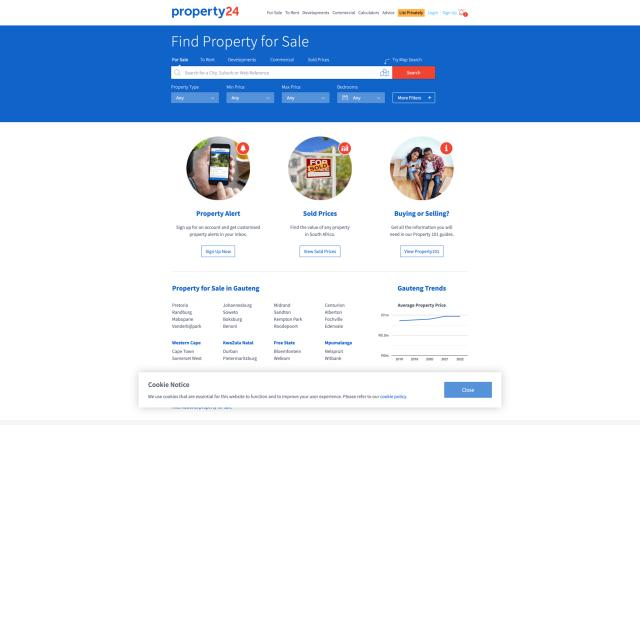input: (172, 65, 392, 79)
logo: (170, 2, 241, 22)
navigation: (266, 8, 458, 17), (170, 57, 332, 63)
